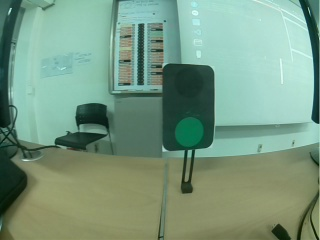green_light: (162, 63, 215, 150)
